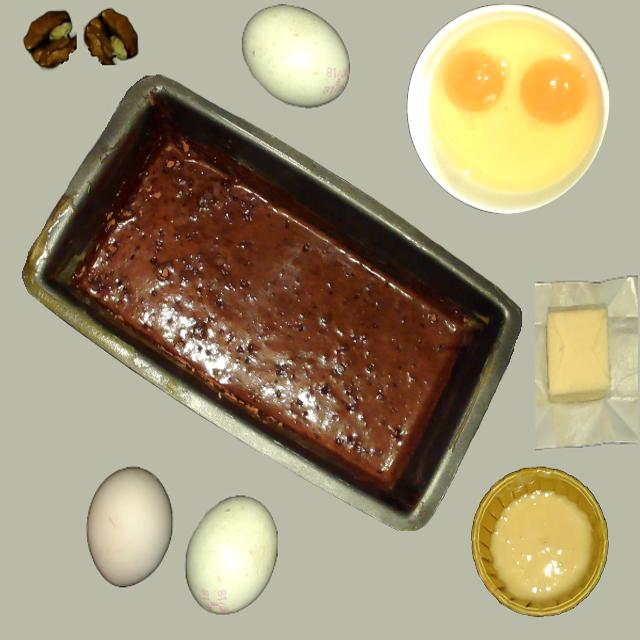Egg: (520, 57, 587, 125), (444, 49, 507, 114)
